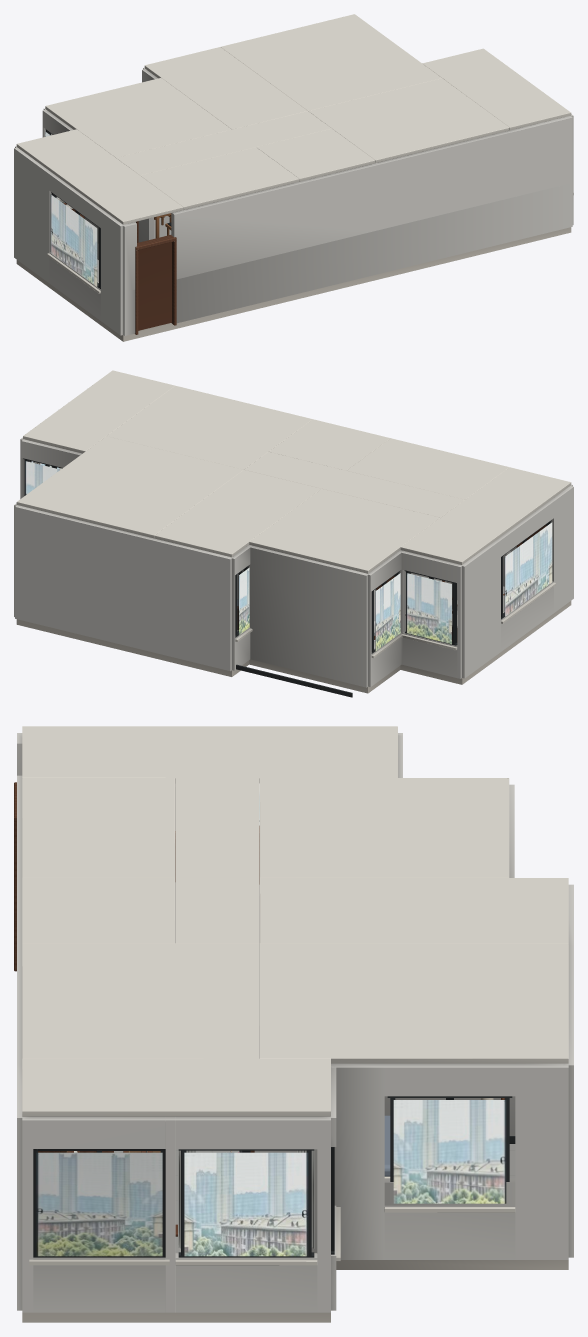
File: house.glb
3 views of the same model, one above another, from view 1: azimuth 30°, elevation 25°; view 2: azimuth 150°, elevation 25°; view 3: azimuth 270°, elevation 25° (orthographic). The views are drawn at different scales.
Visible parts, largest first — view 1: shell__walk__white, shell__walk__wall, shell__orbit__wall, shell__shared__wall, balcony__shared__wall__Study south solid wall, shell__shared__source_2232ebe0, shell__shared__source_609be1f6, shell__walk__walnutDark, shell__walk__walnut; view 2: shell__walk__white, shell__shared__wall, shell__shared__source_2232ebe0, shell__shared__source_609be1f6, shell__shared__source_8985658d, shell__shared__graphite, shell__shared__source_6bc1db3e, shell__shared__white, shell__shared__source_c2ba2d56, shell__shared__source_dc4e3a3, shell__walk__wall; view 3: shell__walk__white, shell__walk__wall, balcony__shared__wall__Full study side window, balcony__shared__source_b7e642cb__Full study side window, shell__walk__source_b7e642cb, shell__walk__source_aac7d18d, shell__shared__source_2232ebe0, shell__shared__wall, shell__walk__graphite, shell__orbit__wall, balcony__shared__graphite__Full study side window, balcony__shared__wall__Study south solid wall (+2 smaller).
Part boxes in pixels (bbox=[...]): shell__walk__white: bbox=[16, 14, 571, 224]; shell__walk__wall: bbox=[84, 131, 510, 335]; shell__orbit__wall: bbox=[123, 183, 572, 335]; shell__shared__wall: bbox=[14, 67, 157, 335]; balcony__shared__wall__Study south solid wall: bbox=[509, 116, 572, 197]; shell__shared__source_2232ebe0: bbox=[16, 227, 571, 341]; shell__shared__source_609be1f6: bbox=[50, 194, 97, 286]; shell__walk__walnutDark: bbox=[138, 242, 171, 330]; shell__walk__walnut: bbox=[135, 221, 176, 334]; shell__walk__white: bbox=[16, 370, 571, 573]; shell__shared__wall: bbox=[15, 439, 573, 687]; shell__shared__source_2232ebe0: bbox=[16, 601, 571, 693]; shell__shared__source_609be1f6: bbox=[504, 522, 552, 616]; shell__shared__source_8985658d: bbox=[406, 573, 451, 644]; shell__shared__graphite: bbox=[23, 458, 551, 697]; shell__shared__source_6bc1db3e: bbox=[375, 573, 400, 651]; shell__shared__white: bbox=[235, 582, 555, 658]; shell__shared__source_c2ba2d56: bbox=[239, 567, 249, 634]; shell__shared__source_dc4e3a3: bbox=[25, 461, 60, 495]; shell__walk__wall: bbox=[14, 437, 572, 630]; shell__walk__white: bbox=[22, 726, 568, 1265]; shell__walk__wall: bbox=[17, 733, 568, 1312]; balcony__shared__wall__Full study side window: bbox=[22, 1116, 175, 1312]; balcony__shared__source_b7e642cb__Full study side window: bbox=[36, 1152, 162, 1256]; shell__walk__source_b7e642cb: bbox=[184, 1152, 308, 1256]; shell__walk__source_aac7d18d: bbox=[393, 1100, 506, 1203]; shell__shared__source_2232ebe0: bbox=[22, 1260, 568, 1322]; shell__shared__wall: bbox=[326, 733, 573, 1310]; shell__walk__graphite: bbox=[178, 1096, 512, 1257]; shell__orbit__wall: bbox=[17, 1096, 515, 1310]; balcony__shared__graphite__Full study side window: bbox=[33, 1149, 165, 1257]; balcony__shared__wall__Study south solid wall: bbox=[17, 1064, 27, 1232].
Size of the model in its own units: 12.53 by 3.14 by 7.54.
Materials: 179 (55 with a texture image).
